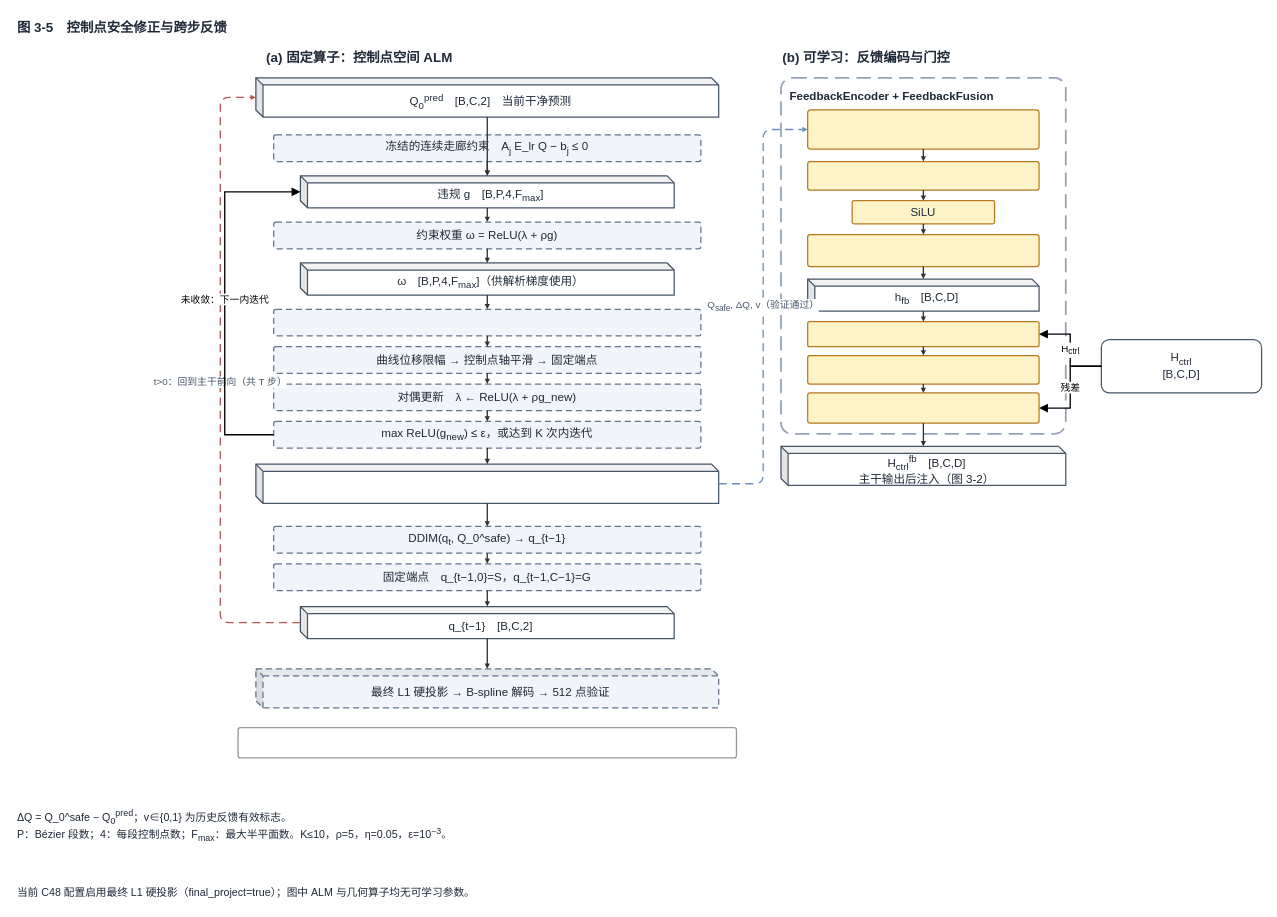
Image size: 1277x917. Some labels were removed from this diagram. Each missing label, with the centre of its shape:
3 步预热后激活；冻结走廊与约束包。 仅约束验证通过的结果更新历史反馈。: the point at 487,742
Concat(H ctrl , h fb ) [B,C,2D]: the point at 923,334
Concat(Q_0^safe, ΔQ, v) [B,C,5]: the point at 923,129
G = Sigmoid(·) ⊙ v H ctrl fb = H ctrl + G ⊙ h fb: the point at 923,407
Linear(2D,D): the point at 923,369
Linear(5,64): the point at 923,175
Linear(64,D) 零初始化: the point at 923,250
Q_0^safe [B,C,2]: the point at 487,483
近端更新：解析约束梯度 + Cholesky 求解: the point at 487,322
